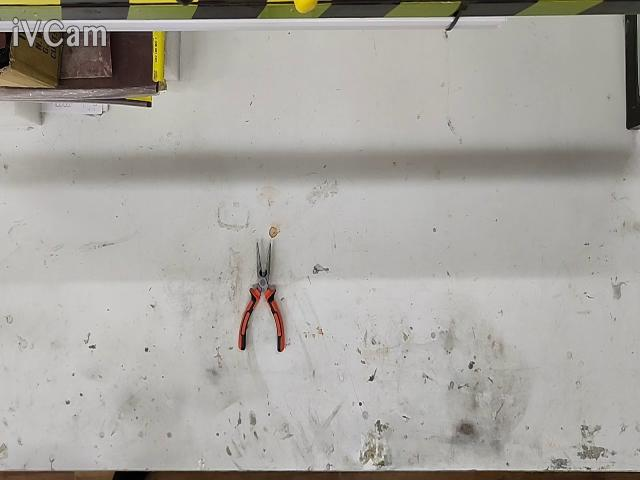Needle-nose pliers: (239, 243, 285, 351)
